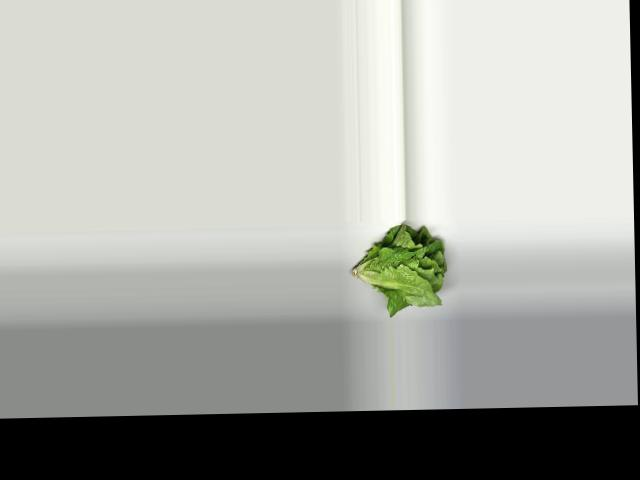lettuce: (348, 223, 448, 317)
